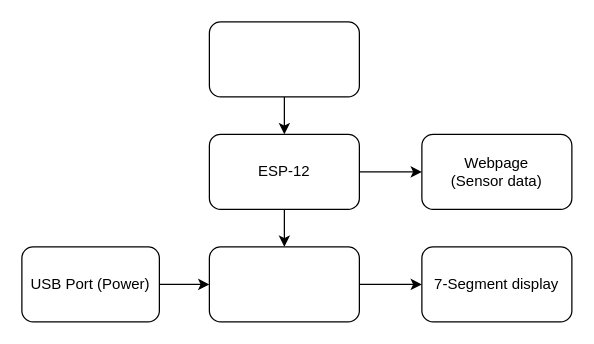
The diagram is 594 pixels wide and 344 high, and some of its shapes have lost their labels. Each missing label, with the box of its shape:
PCB: (208, 246, 359, 322)
Software: (208, 21, 359, 97)
